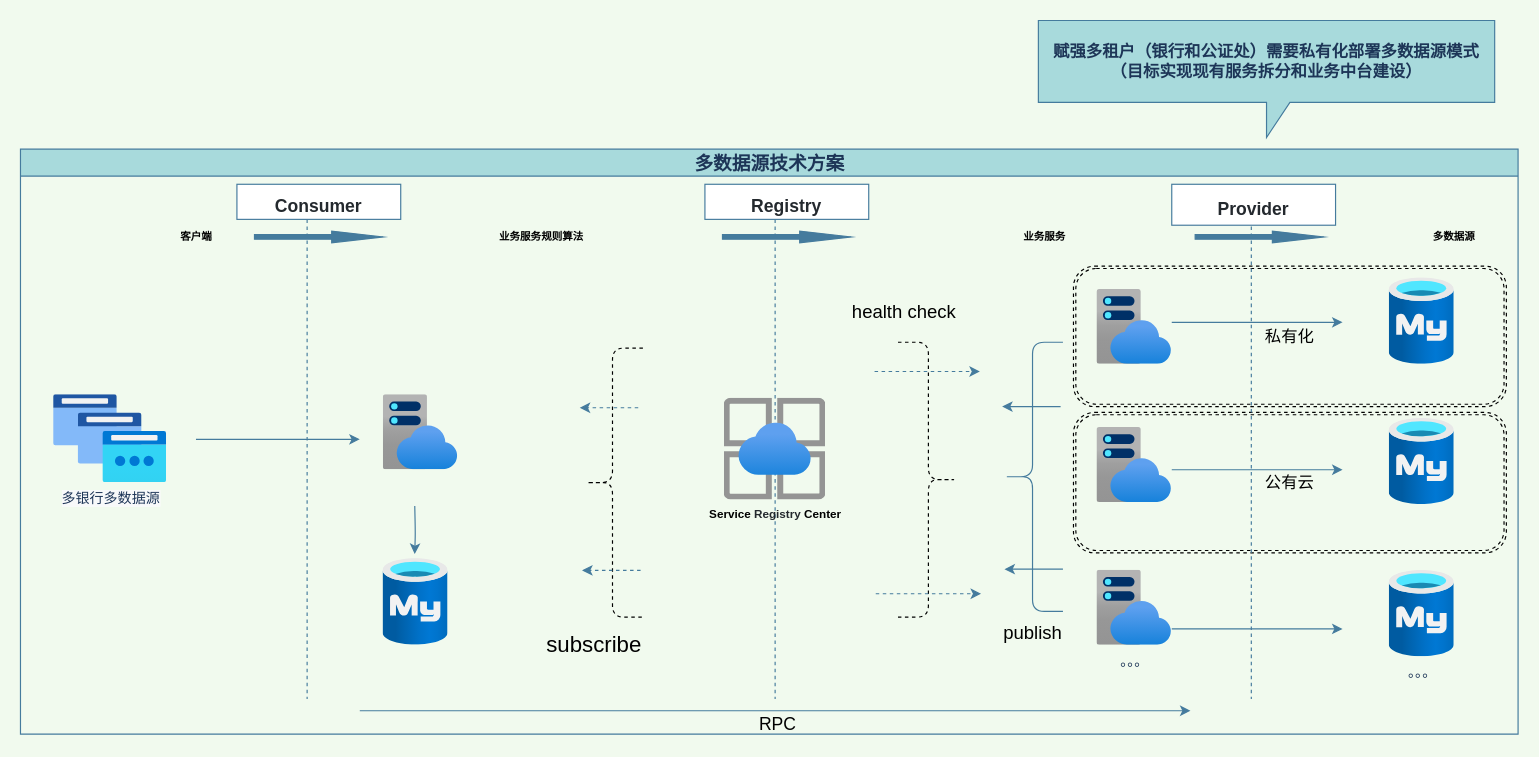
This 1539x757 diagram has some shape labels left out. Here are the shapes that lost their labels. From the top down, the centre of each, then its label:
[1133,326]: 公证处A服务
[1421,320]: 公证处A数据库
[420,431]: 平台业务服务
[1133,464]: 公证处B服务
[1421,461]: 公证处B数据库
[415,601]: 平台数据库
